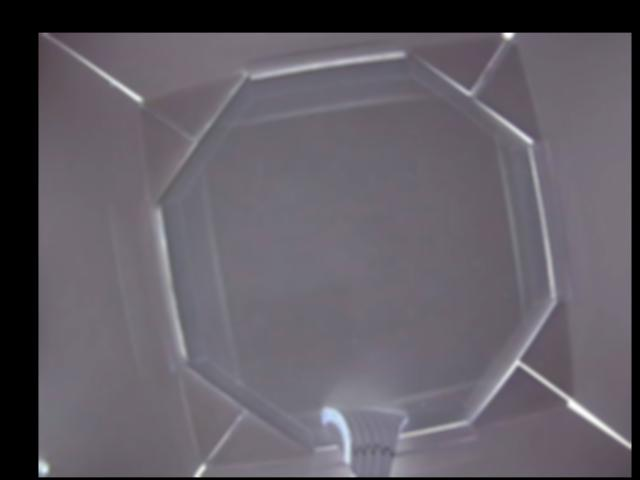China: (322, 404, 415, 477)
